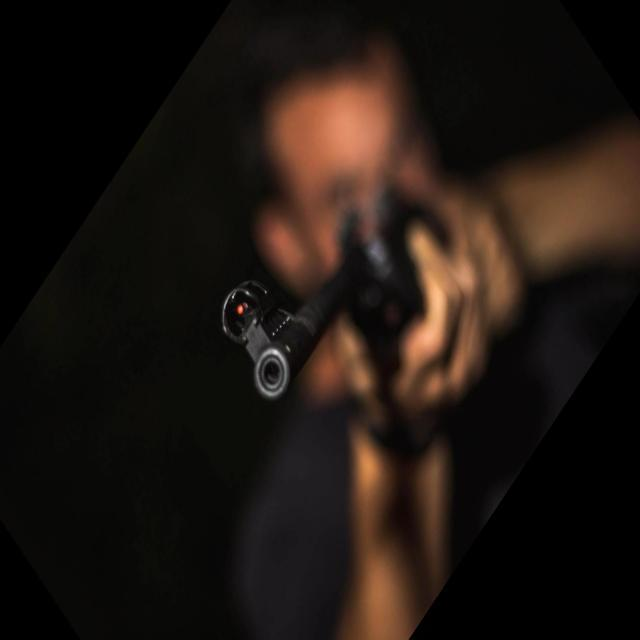weapon: (222, 188, 449, 406)
